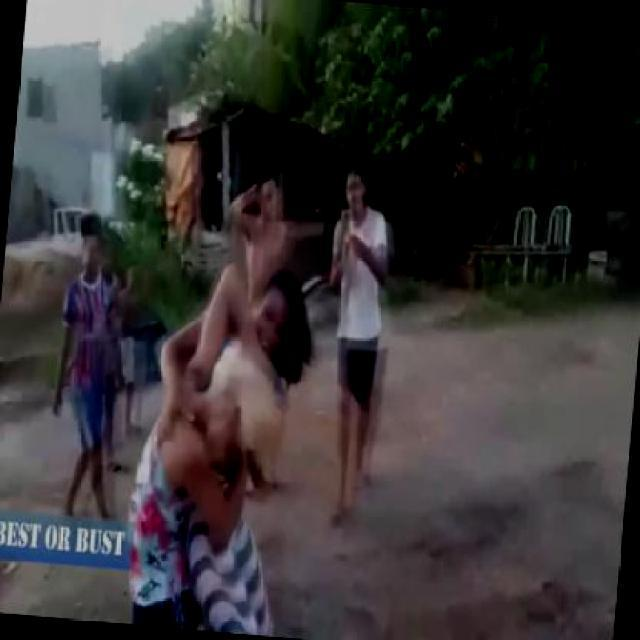fight: (120, 258, 318, 638)
non-fight: (308, 174, 400, 526), (44, 222, 138, 518)
